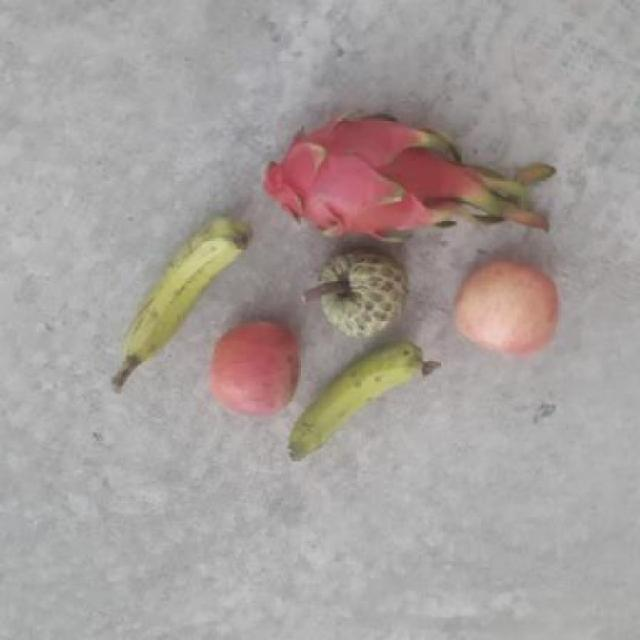apple: (454, 255, 558, 362), (207, 316, 311, 419)
banana: (113, 216, 250, 390), (284, 348, 438, 462)
dragon fruit: (256, 117, 476, 246)
sugar apple: (315, 240, 410, 342)
